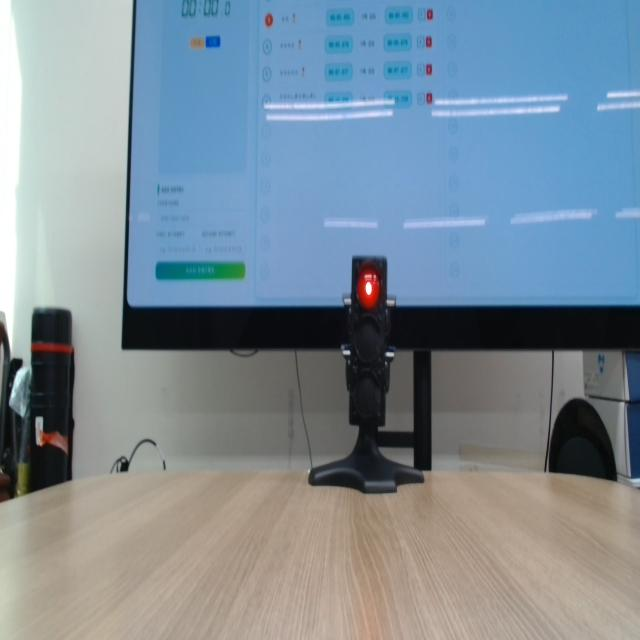red_light: (357, 264, 380, 310)
